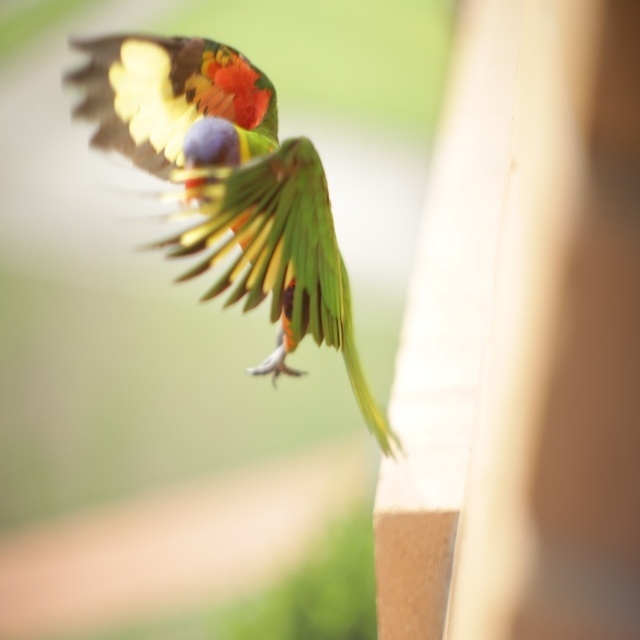Parrot: (58, 29, 404, 456)
